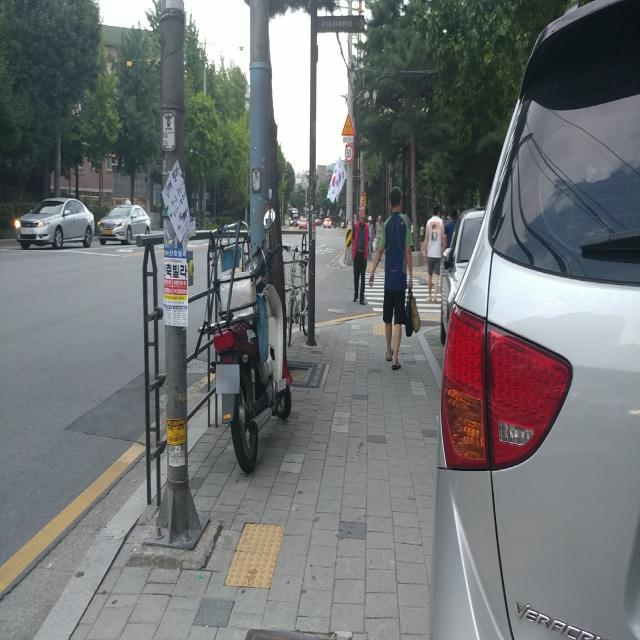횡단보도: (359, 272, 441, 312)
